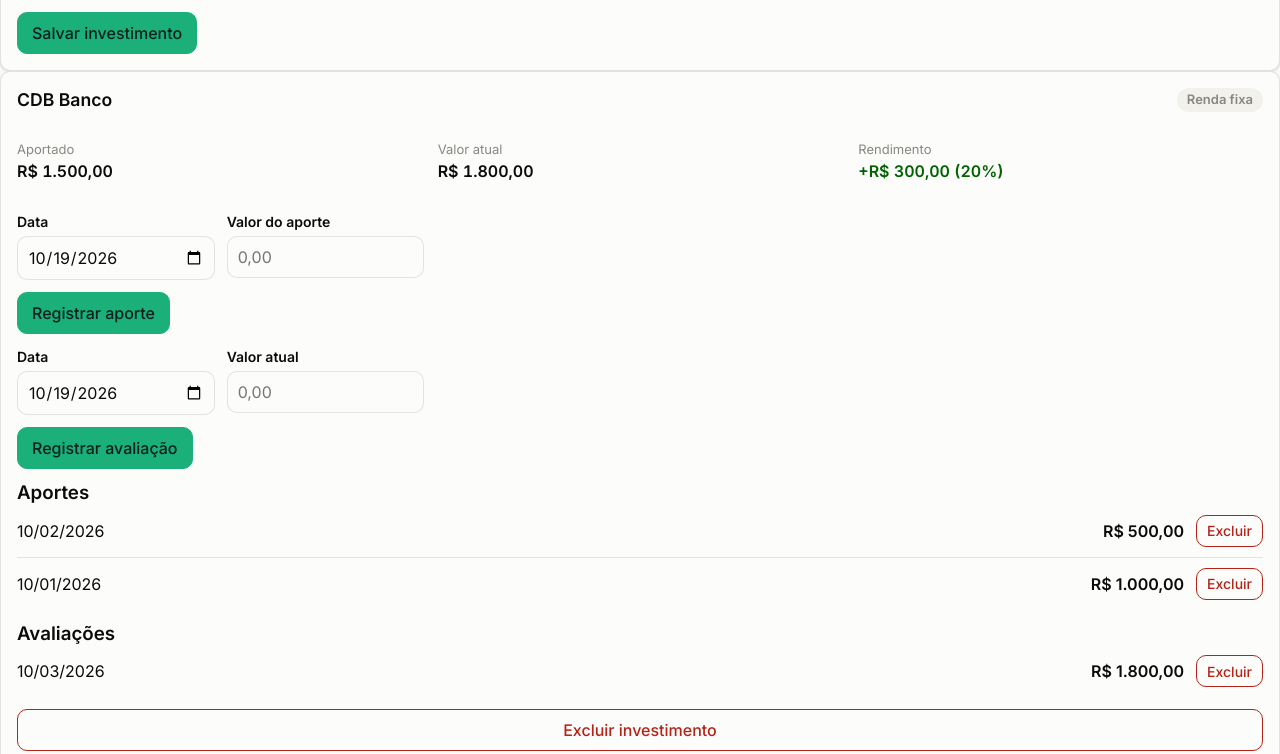
Test case: InvestmentsPage › shows failures when deleting
(page scrolled)
Click the button with aria-label "Excluir investimento CDB Banco". click: point(640, 730)
box: [17,709,1263,751]
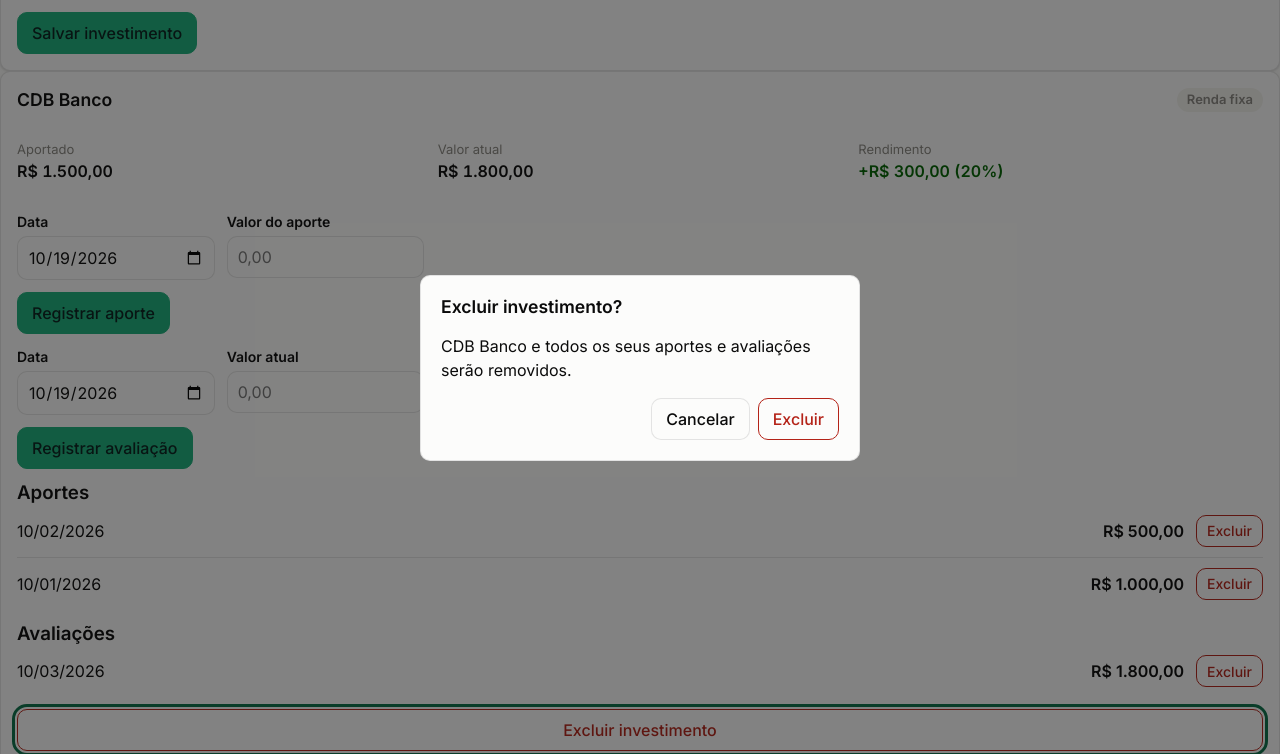
Click the button "Excluir". click: point(798, 419)
box: [758,398,839,440]
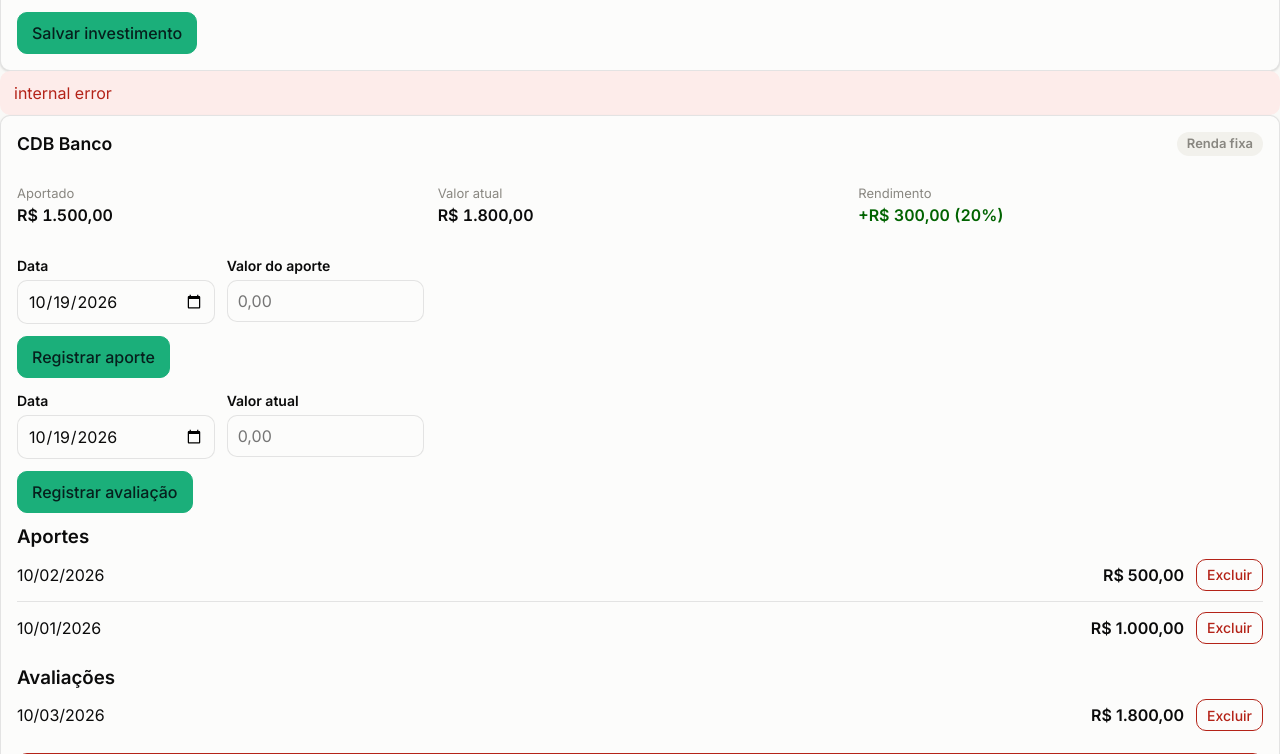
Now the text "internal error" is shown, box [0,72,1279,116]
